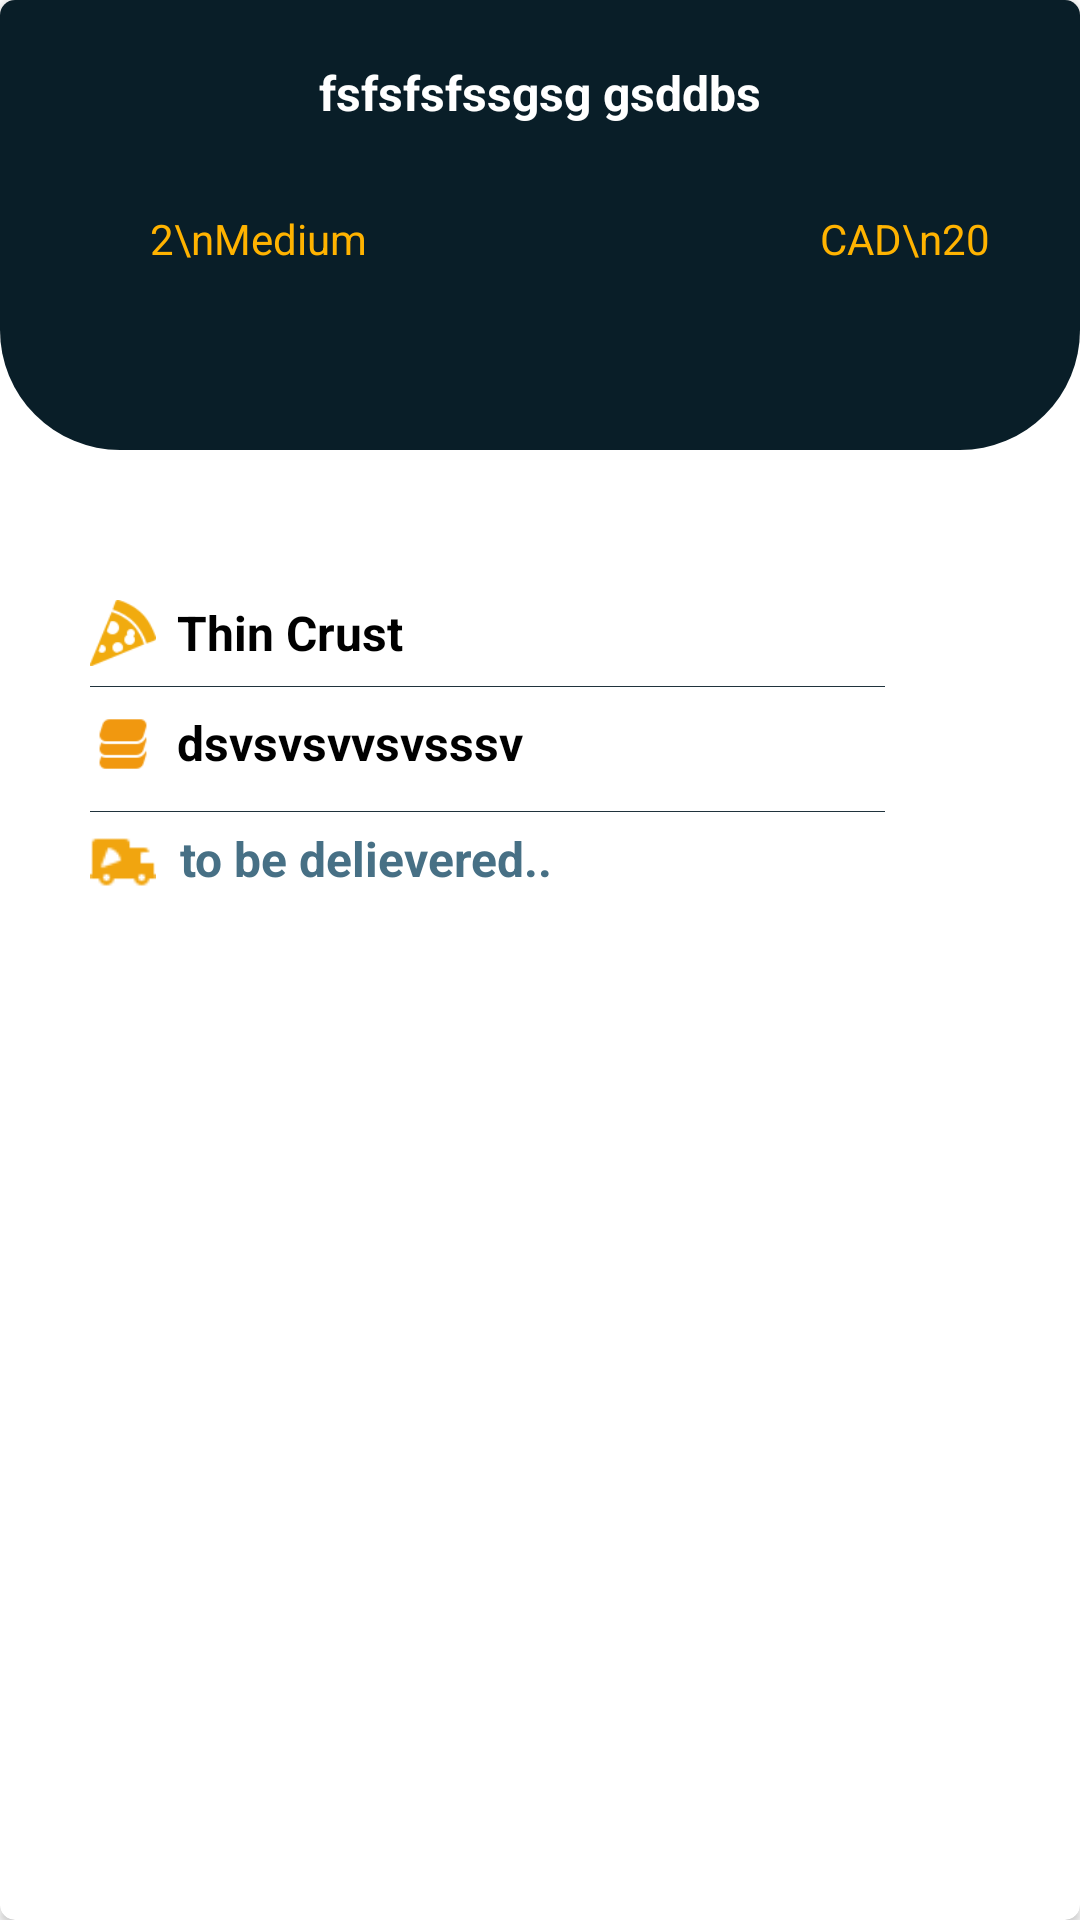

Locate icon controls on the screen. Image size 1080 × 1920, boxes as (x1, y1, x2, y2).
dlvry: (90, 838, 156, 886)
layers: (99, 719, 147, 769)
pizza: (90, 600, 156, 666)
